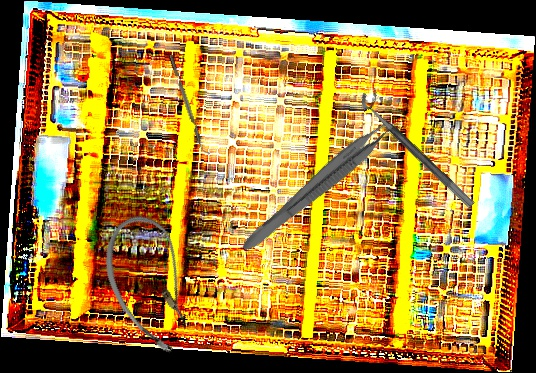Cannula: (86, 205, 218, 363)
Chopper: (168, 53, 211, 157)
Fixation Ring: (356, 84, 484, 210)
Tissue Forceps: (238, 108, 406, 263)
